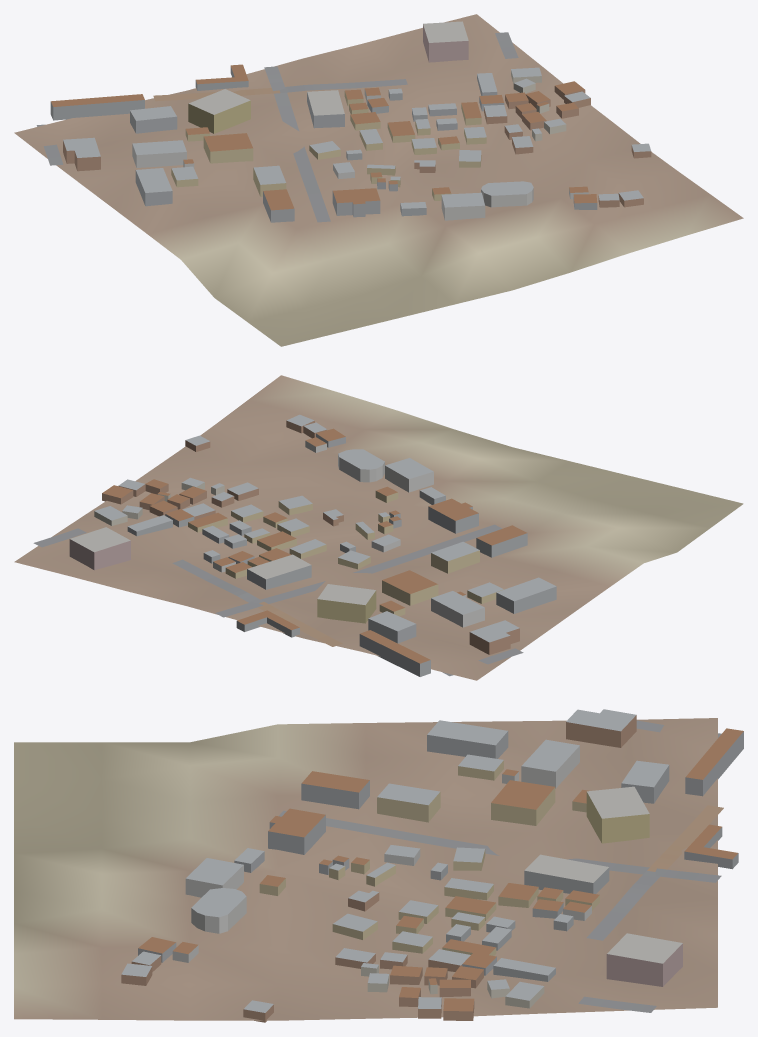
3 views of the same model, one above another, from view 1: azimuth 30°, elevation 25°; view 2: azimuth 150°, elevation 25°; view 3: azimuth 270°, elevation 25° (orthographic). The views are drawn at different scales.
Parts seen in each view (by area): view 1: Lo; view 2: Lo; view 3: Lo.
Part boxes in pixels (x1,y1,x2,y2): Lo: (14, 14, 743, 346); Lo: (14, 375, 743, 680); Lo: (14, 709, 743, 1022).
Size of the model in its own units: 262 by 21.5 by 266.
